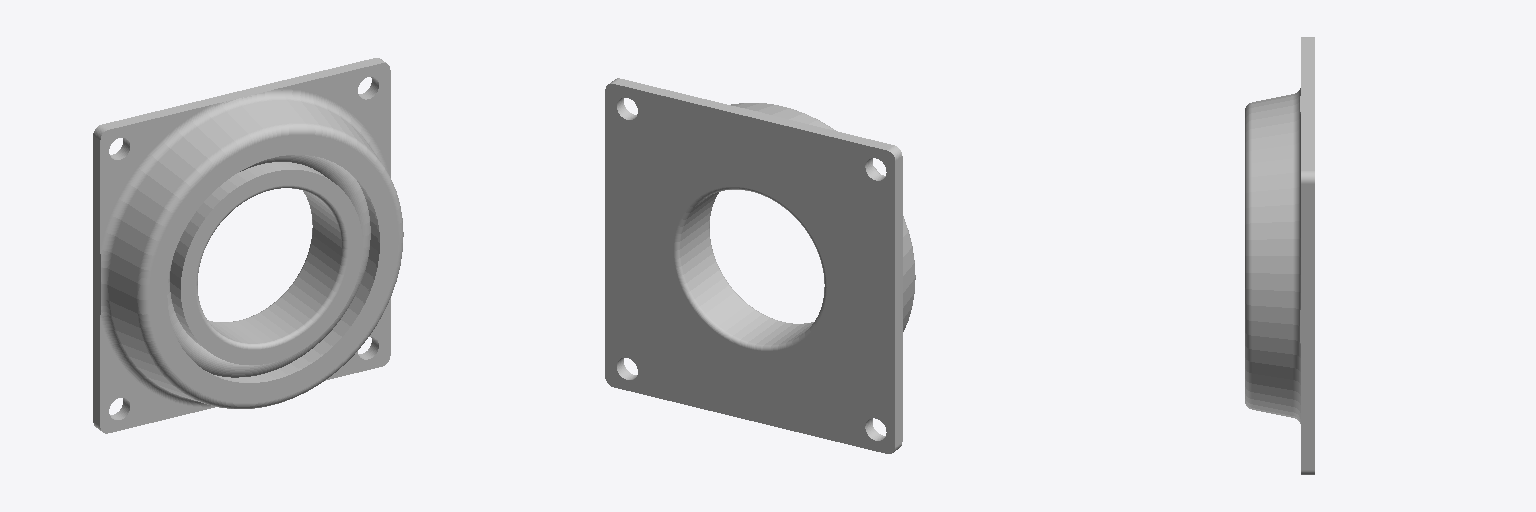
The model's file is Assembly 1.obj.
3 renders of one model, left to right at view 1: azimuth 30°, elevation 25°; view 2: azimuth 150°, elevation 25°; view 3: azimuth 270°, elevation 25°, orthographic.
Visible parts, largest first — view 1: mesh9, mesh11, mesh3, mesh10, mesh12, mesh5, mesh1, mesh23, mesh25, mesh21, mesh2, mesh0 (+5 smaller); view 2: mesh27, mesh5, mesh16, mesh6, mesh18, mesh11; view 3: mesh11, mesh19, mesh12, mesh10, mesh18.
Part boxes in pixels (x1,y1,x2,y2): mesh9: (149, 135, 398, 402); mesh11: (109, 100, 380, 403); mesh3: (181, 170, 362, 364); mesh10: (137, 123, 403, 408); mesh12: (100, 89, 389, 407); mesh5: (208, 191, 341, 343); mesh1: (167, 155, 370, 377); mesh23: (100, 105, 210, 249); mesh25: (278, 63, 390, 177); mesh21: (100, 318, 210, 433); mesh2: (170, 162, 329, 351); mesh0: (215, 181, 377, 381); mesh27: (605, 84, 894, 453); mesh5: (680, 192, 813, 344); mesh16: (895, 156, 902, 446); mesh6: (674, 187, 826, 350); mesh18: (614, 79, 893, 149); mesh11: (731, 103, 914, 331); mesh11: (1252, 94, 1292, 417); mesh19: (1300, 184, 1314, 469); mesh12: (1293, 88, 1300, 423); mesh10: (1245, 103, 1251, 408); mesh18: (1300, 38, 1314, 170).
Bounding box in the file's own units: 0.07 × 0.07 × 0.0148.